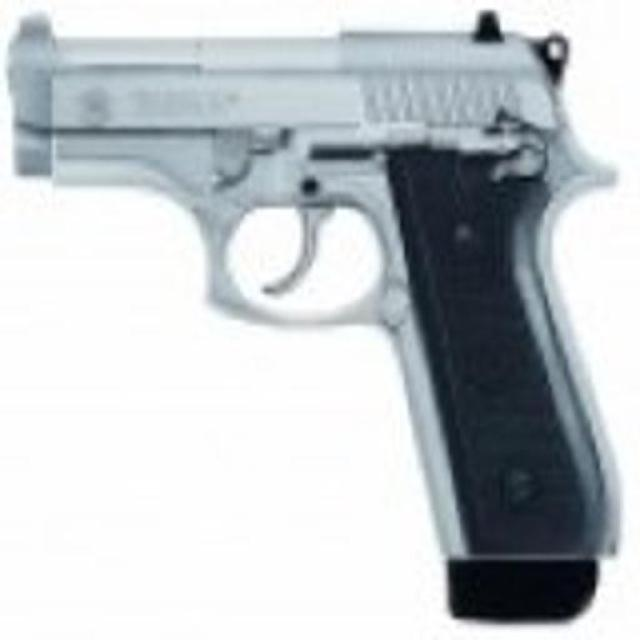pistol: (7, 5, 620, 624)
